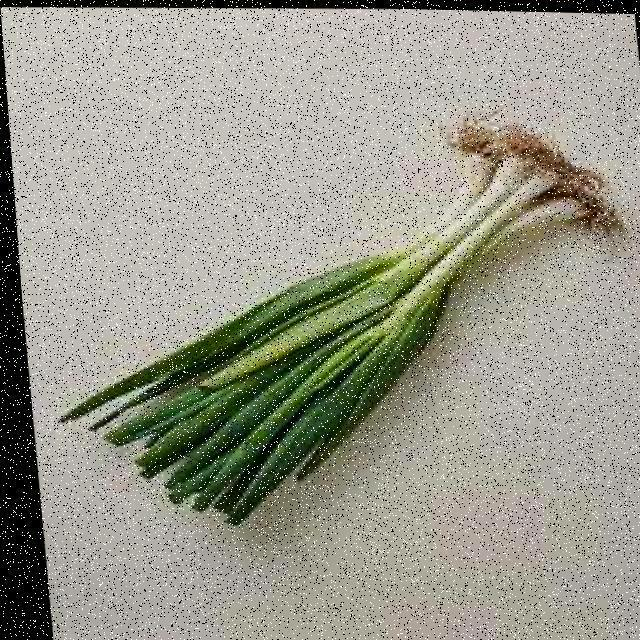green_onion: (60, 102, 625, 555)
